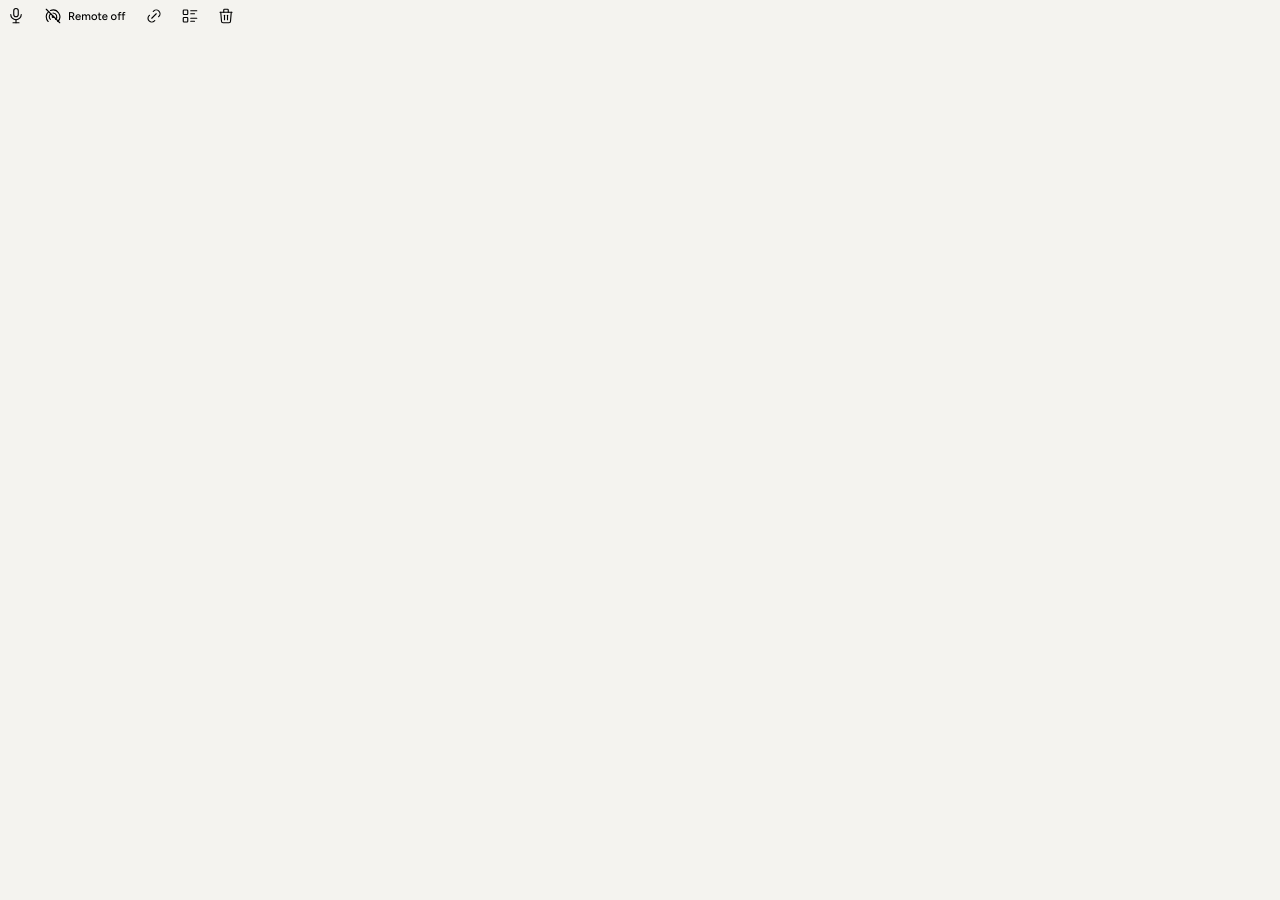
Scenario: chat actions › runs question extraction only when requested and displays the result separately
Click the button named "Questions in this chat". click: [190, 16]
box: [174, 0, 206, 32]
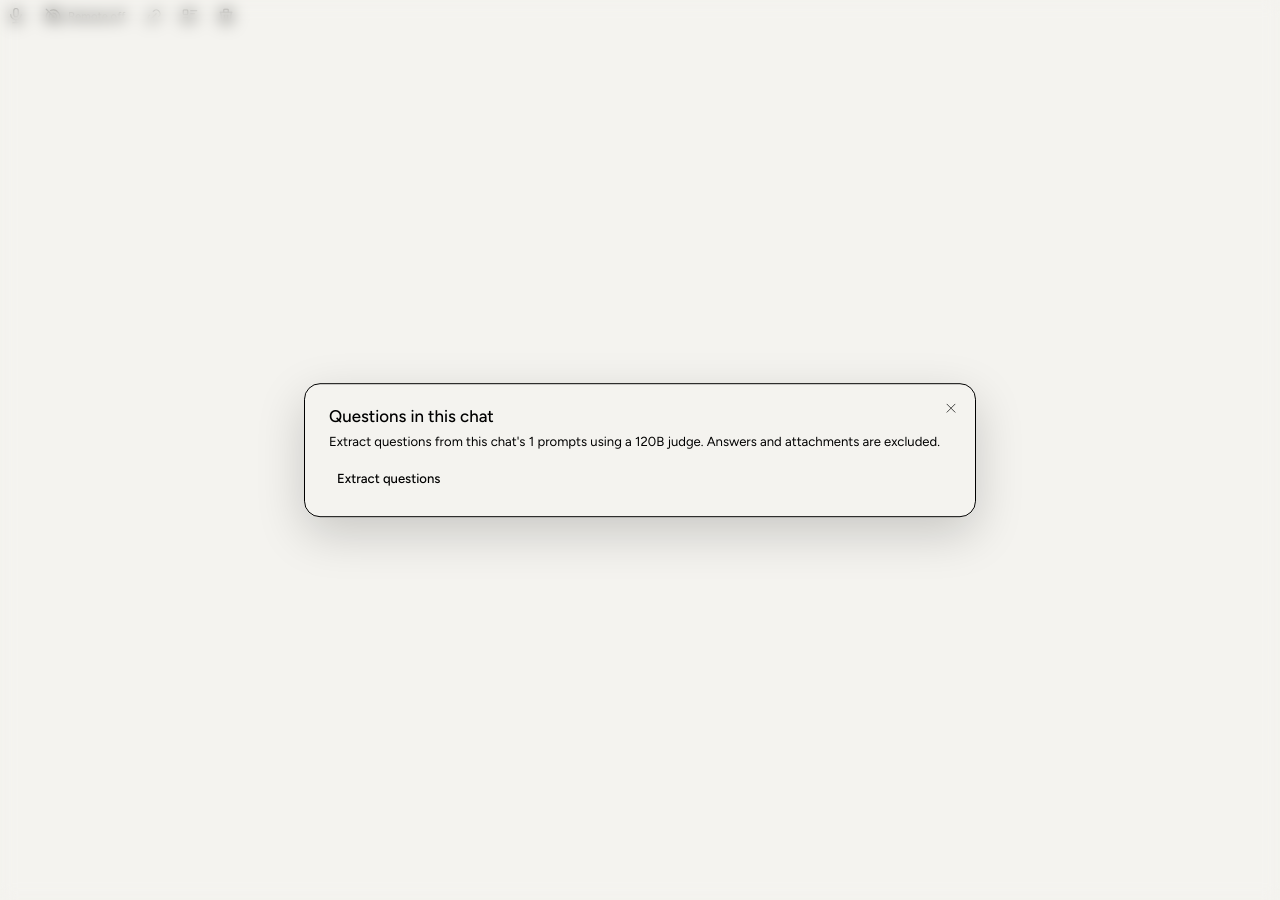
Click the button "Extract questions". click: [389, 480]
box: [329, 468, 448, 492]
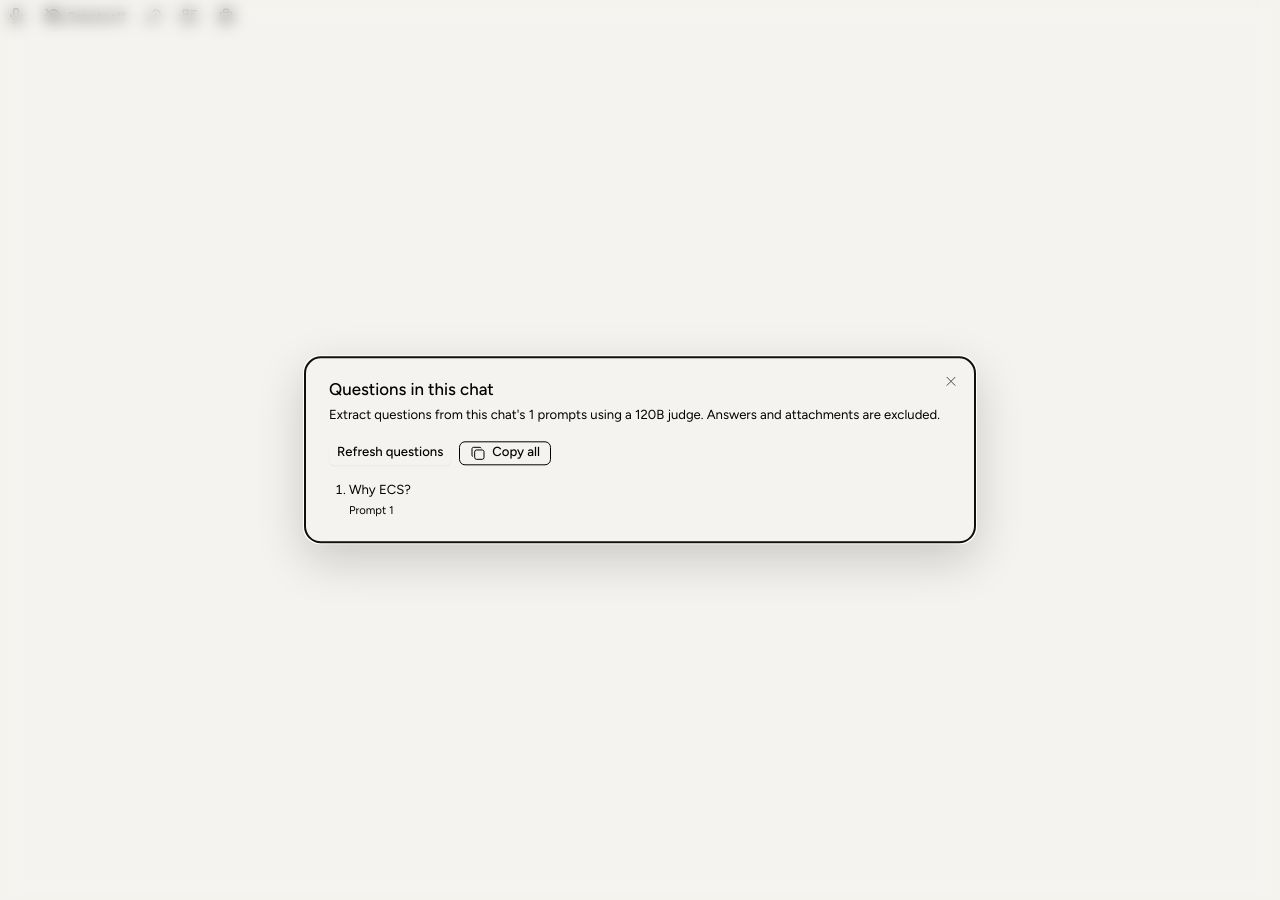
Check: the list item "Why ECS?" is shown, box [349, 482, 411, 497]
